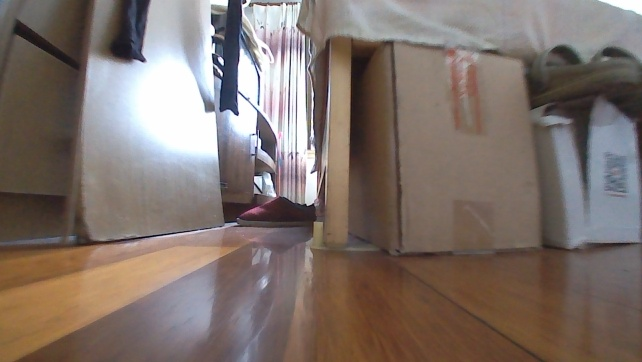bed1: (290, 0, 641, 253)
shoe: (235, 192, 316, 228)
